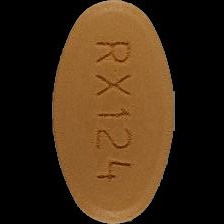51655-652: (0, 0, 224, 224)
